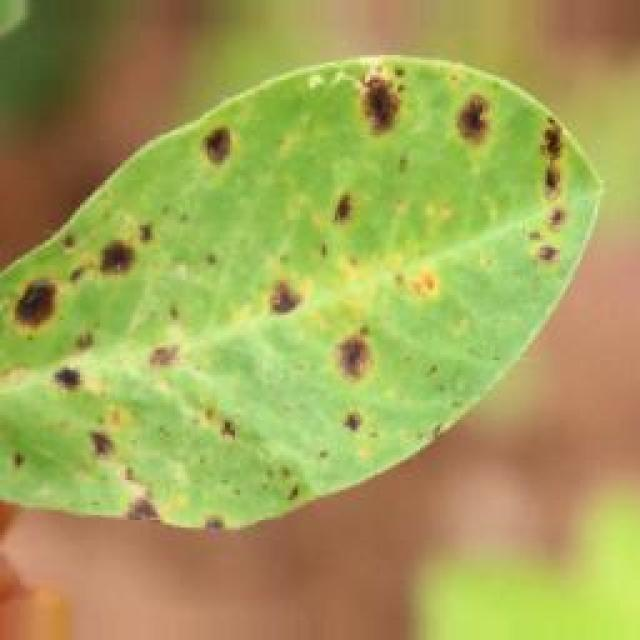Yellowish: (0, 66, 585, 539)
